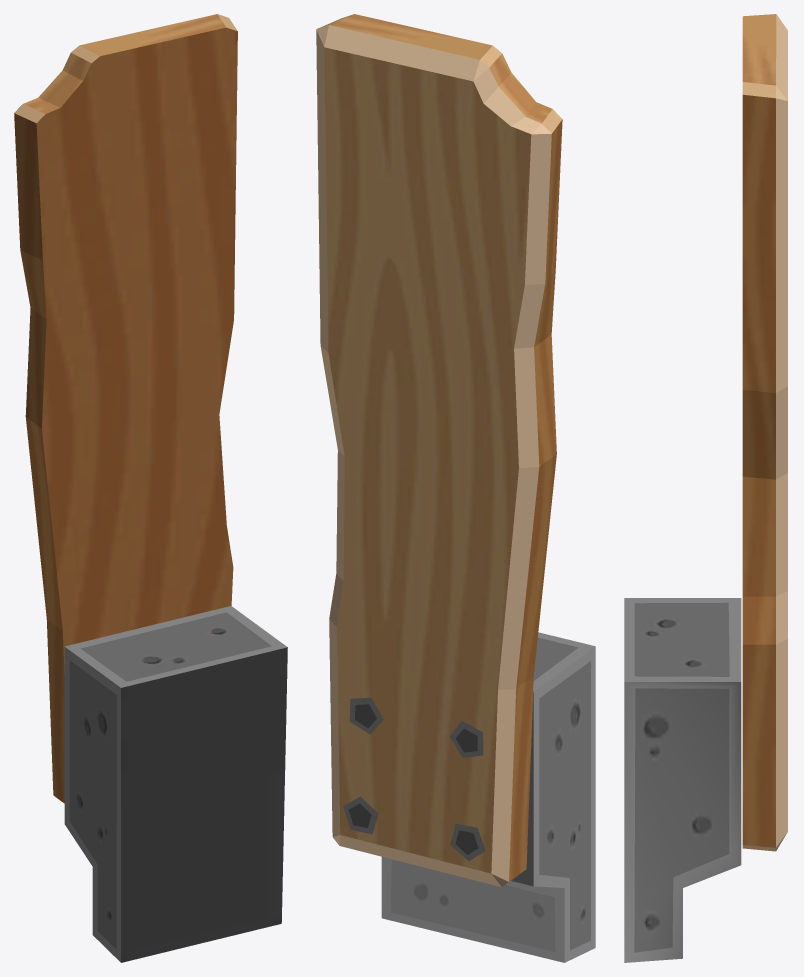
Rendered from ShipsPlank.fbx.
3 renders of one model, left to right at view 1: azimuth 30°, elevation 25°; view 2: azimuth 150°, elevation 25°; view 3: azimuth 270°, elevation 25°, orthographic. The views are drawn at different scales.
Visible parts, largest first — view 1: Plank; view 2: Plank; view 3: Plank.
Part boxes in pixels (x1,y1,x2,y2): Plank: (14, 14, 287, 962); Plank: (316, 14, 595, 962); Plank: (624, 14, 787, 962).
Size of the model in its own units: 68.54 by 261 by 44.24.
